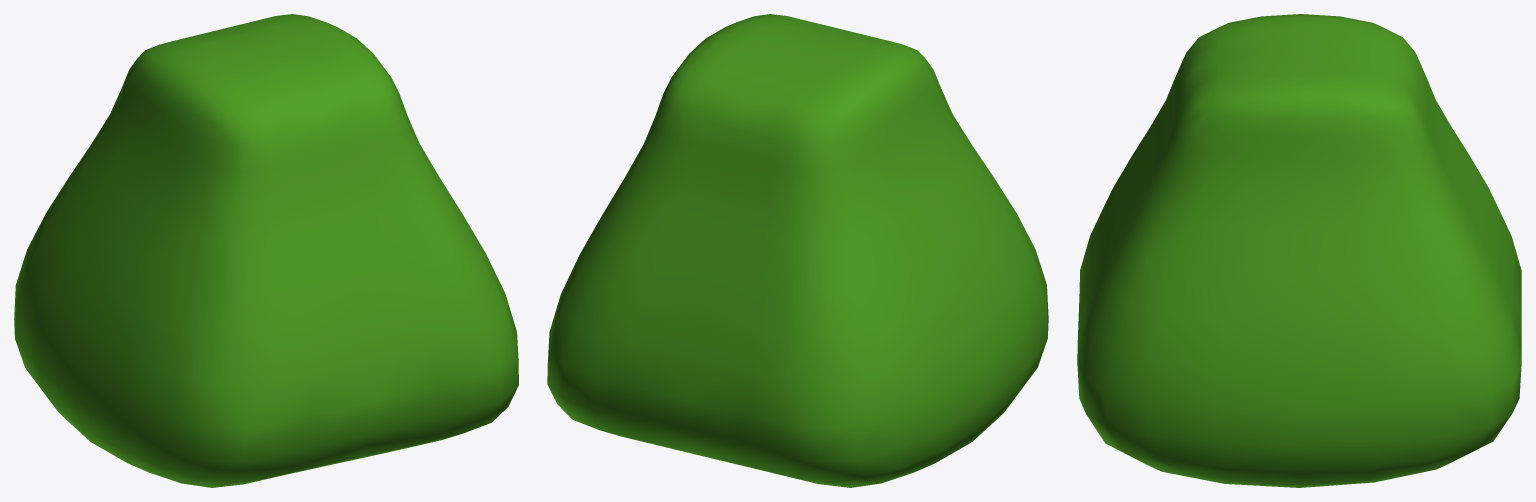
Rendered from Bush 7.fbx.
3 renders of one model, left to right at view 1: azimuth 30°, elevation 25°; view 2: azimuth 150°, elevation 25°; view 3: azimuth 270°, elevation 25°, orthographic.
Visible parts, largest first — view 1: Cube; view 2: Cube; view 3: Cube.
Part boxes in pixels (box(x1,y1,x2,y2)): Cube: box(14, 14, 518, 487); Cube: box(547, 14, 1048, 487); Cube: box(1077, 14, 1521, 487).
Size of the model in its own units: 194 by 180 by 195.
